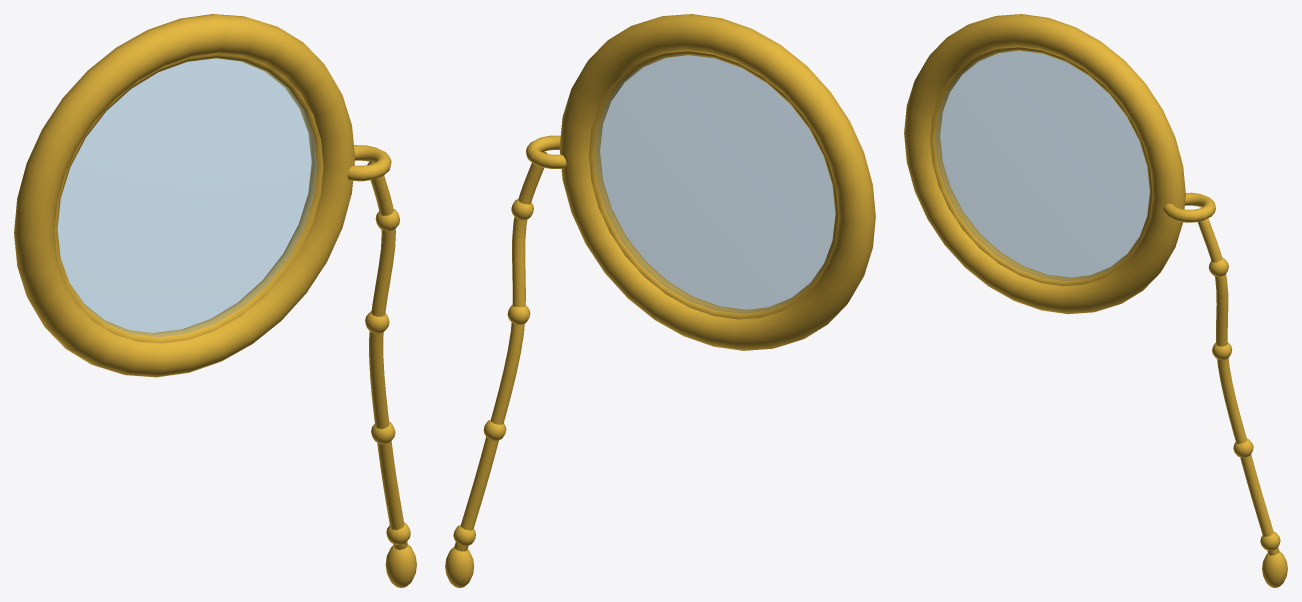
The model's file is monoculo.obj.
The picture shows the model from 3 angles, left to right: view 1: azimuth 30°, elevation 25°; view 2: azimuth 150°, elevation 25°; view 3: azimuth 330°, elevation 25°; orthographic projection. The views are drawn at different scales.
Visible parts, largest first — view 1: Monoculo; view 2: Monoculo; view 3: Monoculo.
Part boxes in pixels (x1=…): Monoculo: x1=14, y1=14, x2=416, y2=587; Monoculo: x1=445, y1=14, x2=875, y2=587; Monoculo: x1=904, y1=14, x2=1287, y2=587.
Size of the model in its own units: 0.442 by 0.64 by 0.098.
